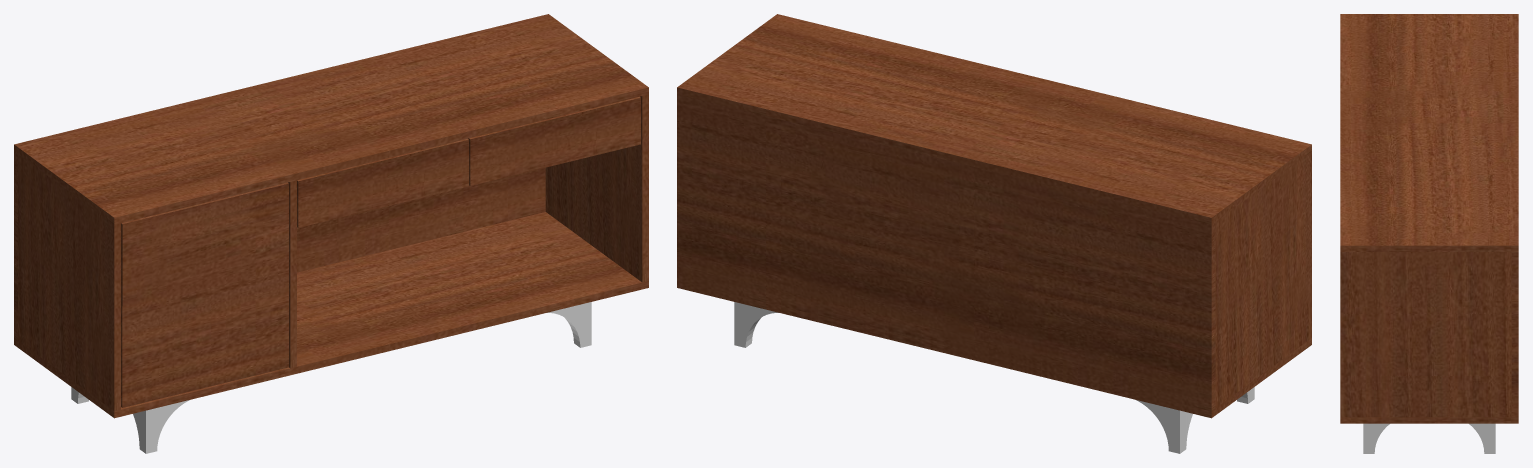
Rendered from MOD3D.glb.
3 views of the same model, side by side, from view 1: azimuth 30°, elevation 25°; view 2: azimuth 150°, elevation 25°; view 3: azimuth 270°, elevation 25° (orthographic). The views are drawn at different scales.
Parts seen in each view (by area): view 1: C-A PISO/TECHO.001, C-A PISO/TECHO, _(Loose Entity), C-A LAT/DIVISOR.001, C-A FONDO, C-A LAT/DIVISOR, C-A FRENTE.001, C-A FRENTE, C-pata.001, C-A LAT/DIVISOR.002; view 2: C-A FONDO, C-A PISO/TECHO.001, C-A LAT/DIVISOR.001, C-A PISO/TECHO, C-pata; view 3: C-A PISO/TECHO.001, C-A LAT/DIVISOR, C-A FONDO, C-A PISO/TECHO, C-pata, C-pata.001, C-pata ch.001.
Boxes of the visible parts, left/top/right/bottom form: C-A PISO/TECHO.001: left=14, top=14, right=648, bottom=224; C-A PISO/TECHO: left=14, top=212, right=648, bottom=418; _(Loose Entity): left=121, top=182, right=288, bottom=407; C-A LAT/DIVISOR.001: left=18, top=154, right=120, bottom=411; C-A FONDO: left=14, top=151, right=545, bottom=340; C-A LAT/DIVISOR: left=545, top=94, right=648, bottom=282; C-A FRENTE.001: left=468, top=96, right=640, bottom=185; C-A FRENTE: left=297, top=138, right=468, bottom=227; C-pata.001: left=139, top=302, right=591, bottom=453; C-A LAT/DIVISOR.002: left=288, top=180, right=296, bottom=368; C-A FONDO: left=677, top=94, right=1215, bottom=411; C-A PISO/TECHO.001: left=677, top=14, right=1311, bottom=224; C-A LAT/DIVISOR.001: left=1215, top=151, right=1311, bottom=407; C-A PISO/TECHO: left=677, top=281, right=1311, bottom=418; C-pata: left=734, top=302, right=1186, bottom=453; C-A PISO/TECHO.001: left=1340, top=14, right=1518, bottom=251; C-A LAT/DIVISOR: left=1340, top=252, right=1511, bottom=417; C-A FONDO: left=1511, top=252, right=1518, bottom=417; C-A PISO/TECHO: left=1340, top=417, right=1518, bottom=423; C-pata: left=1484, top=423, right=1495, bottom=453; C-pata.001: left=1363, top=423, right=1374, bottom=453; C-pata ch.001: left=1374, top=423, right=1484, bottom=451.
Bounding box in the file's own units: 1.2 × 0.55 × 0.39.
4 materials, 3 textured.
